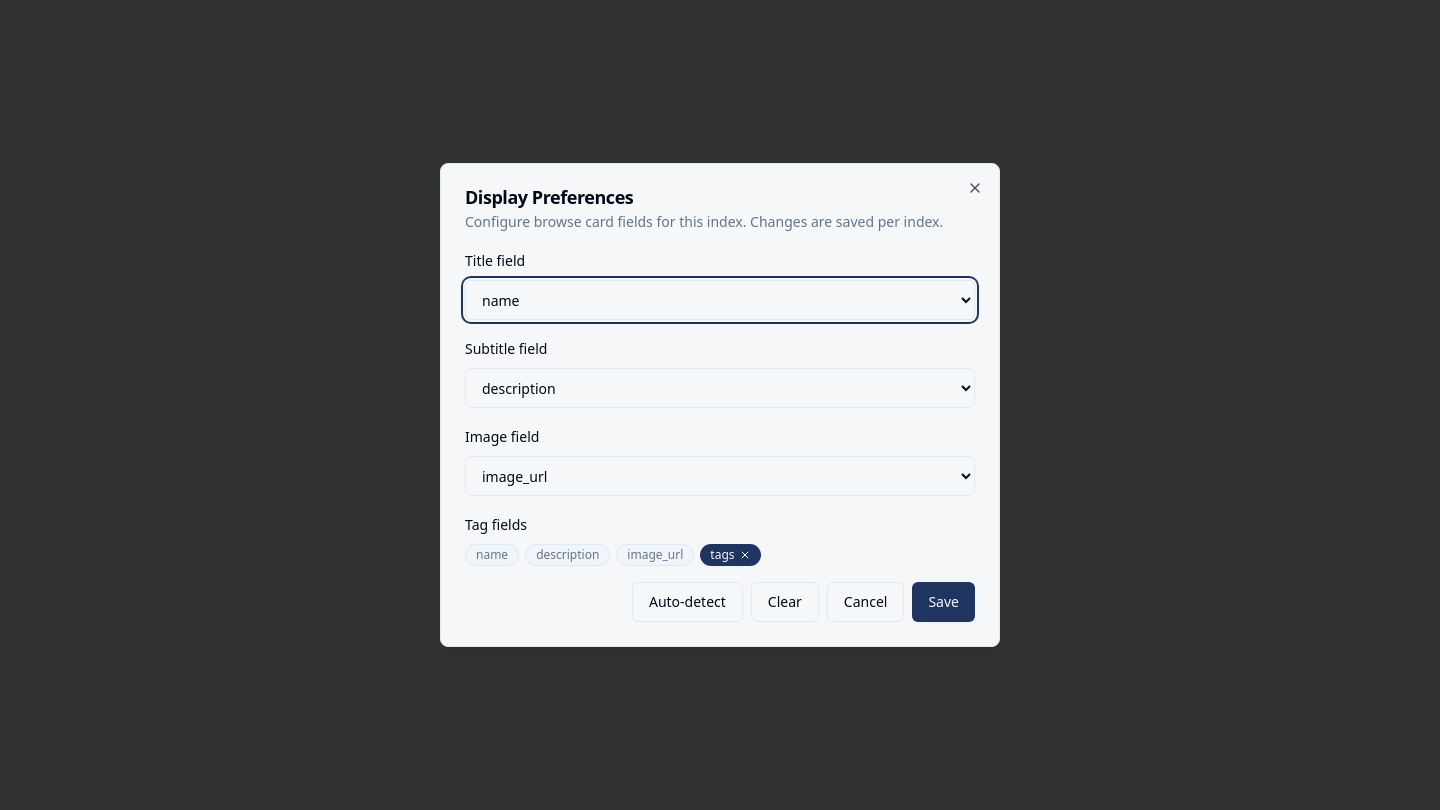
Test case: DisplayPreferencesModal interaction contract › clears only current index and resets draft to empty baseline
Click the button "Clear".
click(785, 602)  # box top-left (751, 582), bottom-right (819, 622)
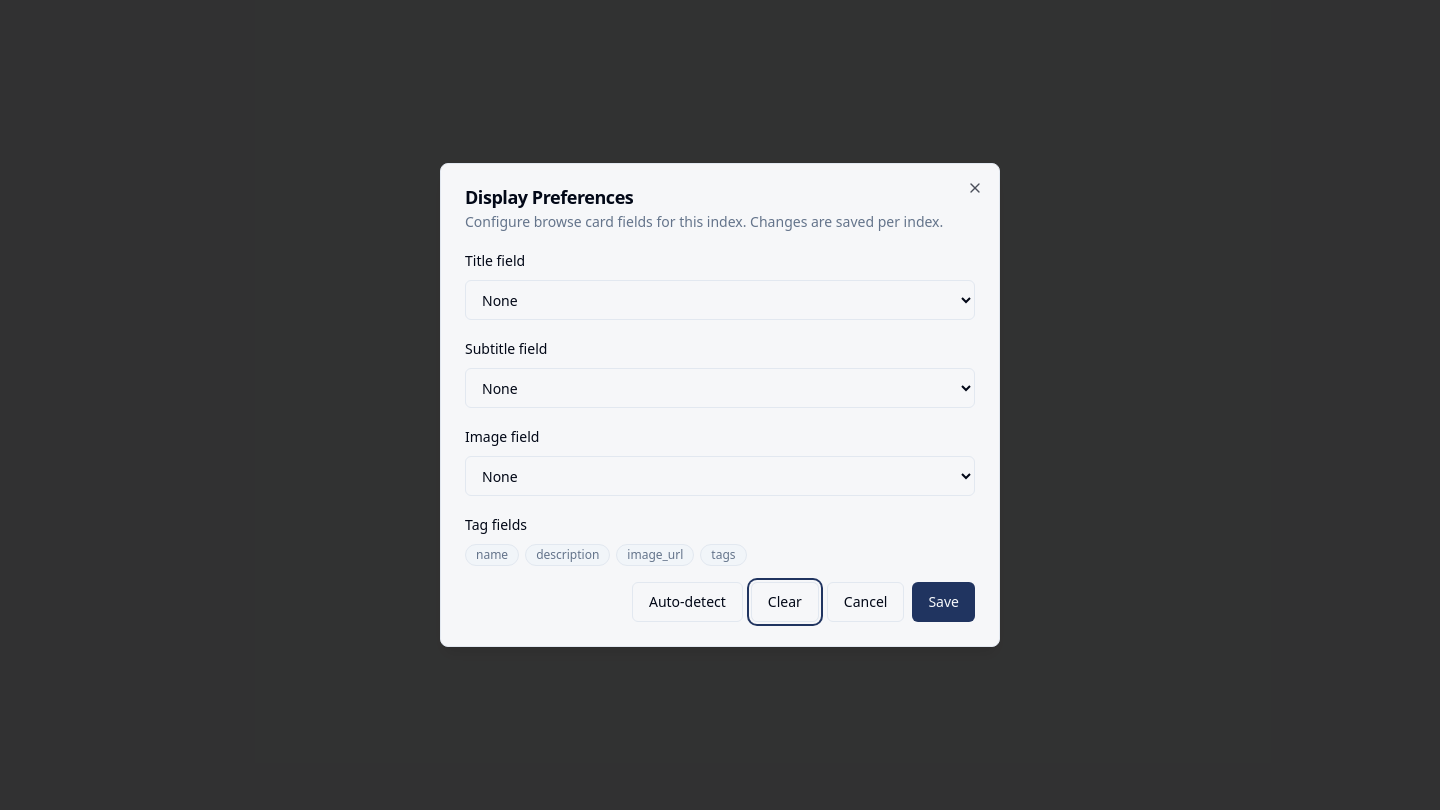
Now the dropdown labelled "Title field" shows "None", box top-left (465, 280), bottom-right (975, 320)
Now the dropdown labelled "Subtitle field" shows "None", box top-left (465, 368), bottom-right (975, 408)
Now the dropdown labelled "Image field" shows "None", box top-left (465, 456), bottom-right (975, 496)
